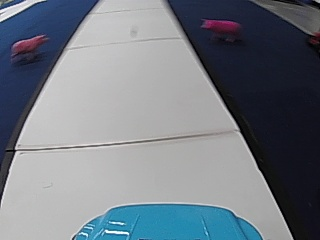pig: (10, 30, 47, 64), (198, 14, 241, 42)
